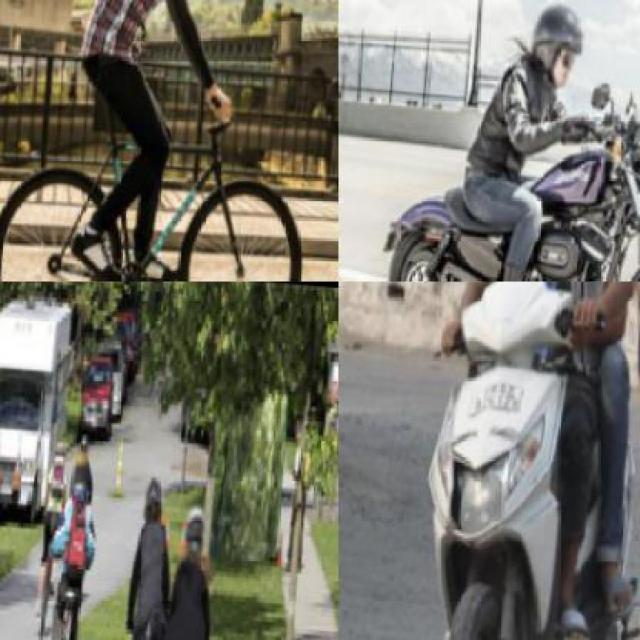With Helmet: (523, 0, 592, 100), (179, 496, 210, 566), (140, 464, 168, 525), (70, 449, 92, 497)
